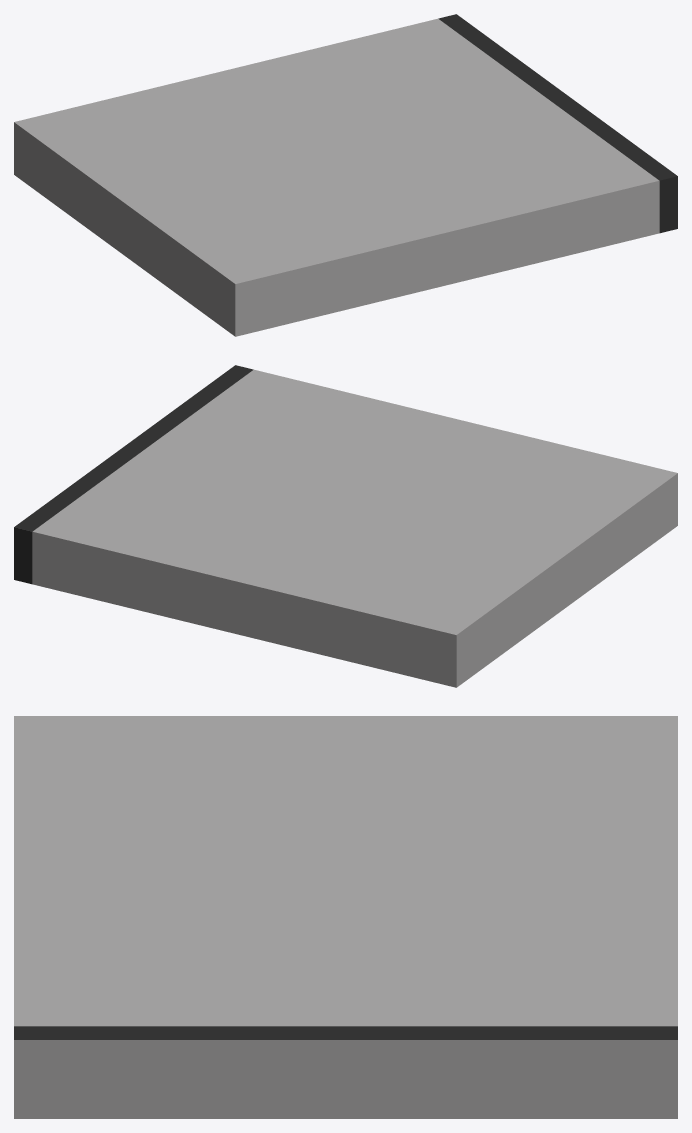
Rendered from bookshelf.fbx.
3 views of the same model, one above another, from view 1: azimuth 30°, elevation 25°; view 2: azimuth 150°, elevation 25°; view 3: azimuth 270°, elevation 25° (orthographic). The views are drawn at different scales.
Parts seen in each view (by area): view 1: Shelf_04_snaps001; view 2: Shelf_04_snaps001; view 3: Shelf_04_snaps001.
Boxes of the visible parts, x1=… form: Shelf_04_snaps001: x1=14, y1=14, x2=677, y2=336; Shelf_04_snaps001: x1=14, y1=365, x2=677, y2=687; Shelf_04_snaps001: x1=14, y1=716, x2=677, y2=1118.
Size of the model in its own units: 283 by 245 by 32.22.
Materials: 1 (1 with a texture image).
